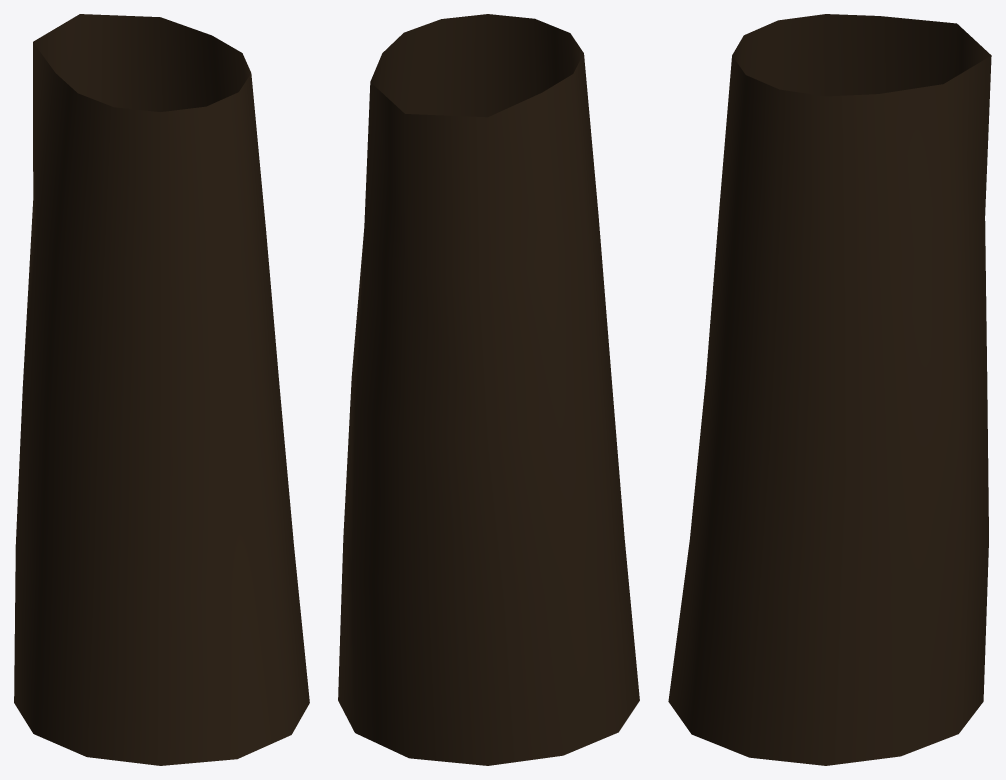
File: pirate_outfit_greave.R.glb
3 renders of one model, left to right at view 1: azimuth 30°, elevation 25°; view 2: azimuth 150°, elevation 25°; view 3: azimuth 270°, elevation 25°, orthographic. The views are drawn at different scales.
Visible parts, largest first — view 1: pirate_outfit_greave.R; view 2: pirate_outfit_greave.R; view 3: pirate_outfit_greave.R.
Part boxes in pixels (x1,y1,x2,y2): pirate_outfit_greave.R: (14, 14, 309, 765); pirate_outfit_greave.R: (338, 14, 639, 765); pirate_outfit_greave.R: (668, 14, 991, 765).
Size of the model in its own units: 0.16 by 0.3767 by 0.1707.
